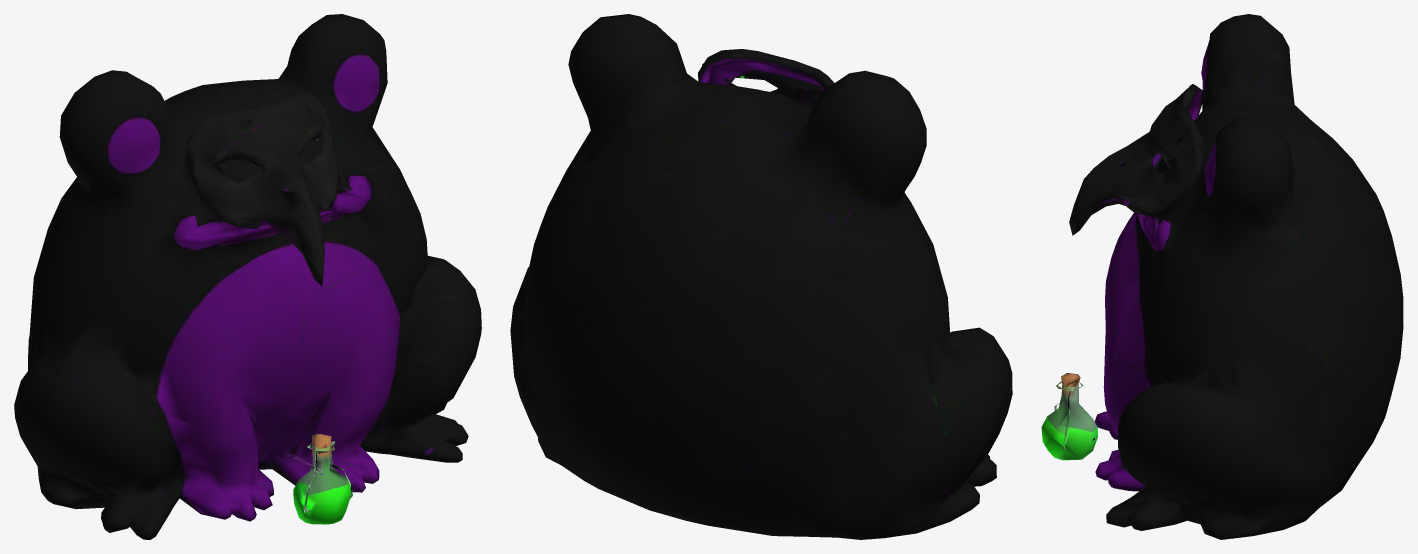
The model's file is apothicaire.glb.
3 views of the same model, side by side, from view 1: azimuth 30°, elevation 25°; view 2: azimuth 150°, elevation 25°; view 3: azimuth 270°, elevation 25° (orthographic). The views are drawn at different scales.
Parts seen in each view (by area): view 1: mesh_node; view 2: mesh_node; view 3: mesh_node.
Boxes of the visible parts, x1,y1,x2,y2 form: mesh_node: (14, 14, 481, 539); mesh_node: (510, 14, 1012, 539); mesh_node: (1041, 14, 1403, 539).
Size of the model in its own units: 1.9 by 1.67 by 1.43.
Materials: 1 (1 with a texture image).
